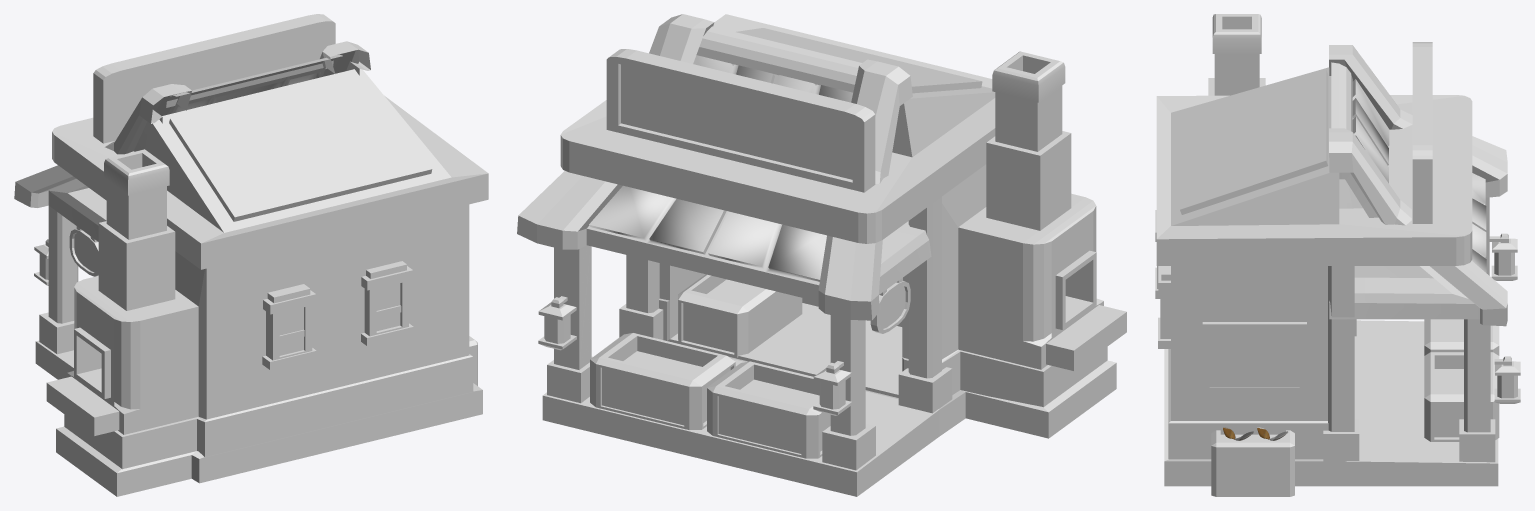
File: house_new3_moll.fbx
3 views of the same model, side by side, from view 1: azimuth 30°, elevation 25°; view 2: azimuth 150°, elevation 25°; view 3: azimuth 270°, elevation 25° (orthographic). The views are drawn at different scales.
Parts seen in each view (by area): view 1: Cube.006; view 2: Cube.006; view 3: Cube.006.
Part boxes in pixels (x1=…): Cube.006: x1=14, y1=14, x2=488, y2=496; Cube.006: x1=517, y1=14, x2=1126, y2=496; Cube.006: x1=1155, y1=14, x2=1520, y2=496.
Size of the model in its own units: 1948 by 1487 by 1524.
